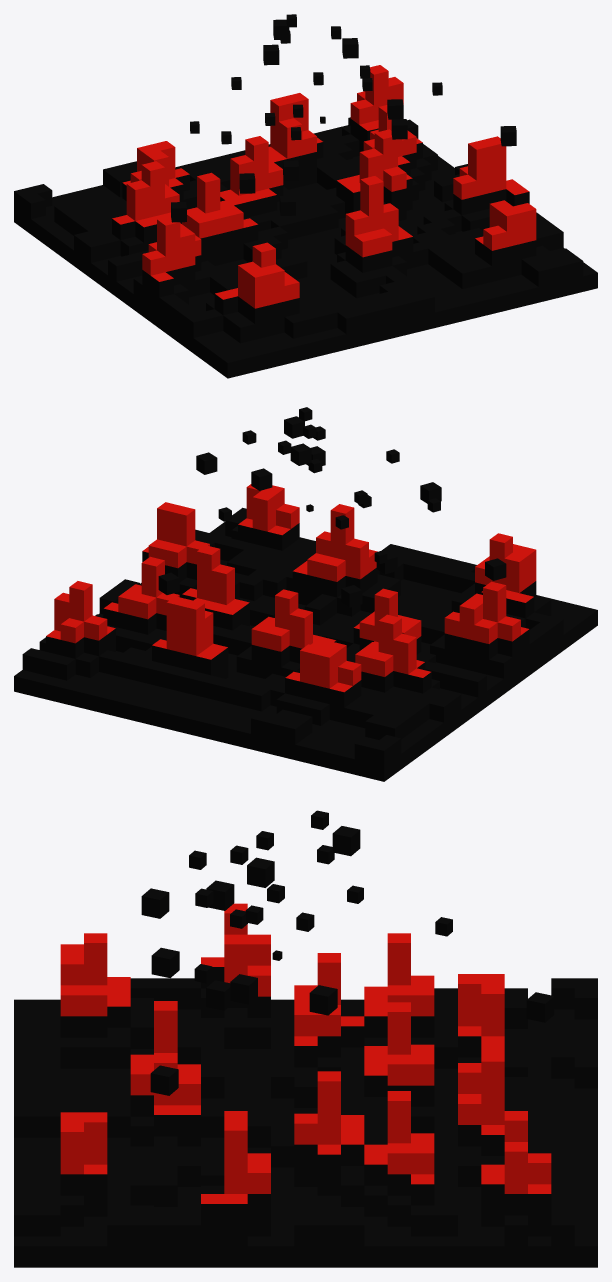
The model's file is Trap.fbx.
3 renders of one model, top to bottom at view 1: azimuth 30°, elevation 25°; view 2: azimuth 150°, elevation 25°; view 3: azimuth 270°, elevation 25°, orthographic. The views are drawn at different scales.
Parts seen in each view (by area): view 1: Cube.026, Cube.024; view 2: Cube.026, Cube.024; view 3: Cube.026, Cube.024.
Boxes of the visible parts, <box> form: Cube.026: <box>14,65,597,378</box>; Cube.024: <box>171,14,516,222</box>; Cube.026: <box>14,484,597,781</box>; Cube.024: <box>158,407,506,607</box>; Cube.026: <box>14,903,597,1267</box>; Cube.024: <box>141,810,554,1095</box>.
Size of the model in its own units: 590 by 361 by 590.
